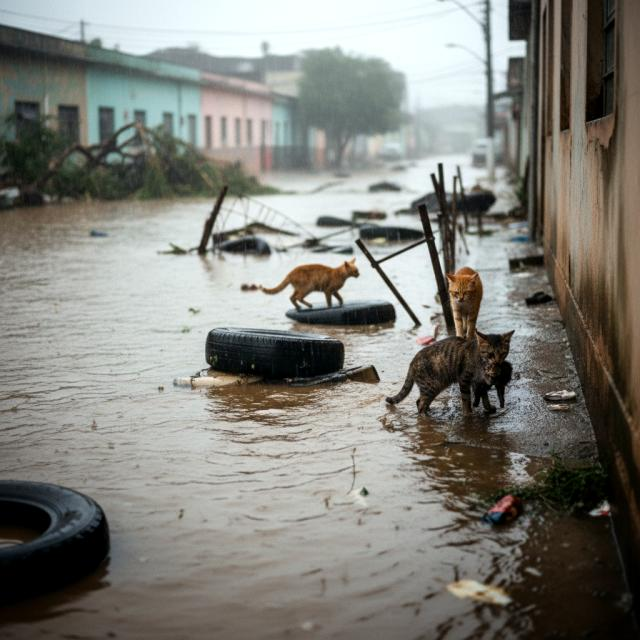cat: (382, 327, 523, 428), (236, 251, 362, 319), (442, 256, 486, 336), (471, 355, 518, 411)
